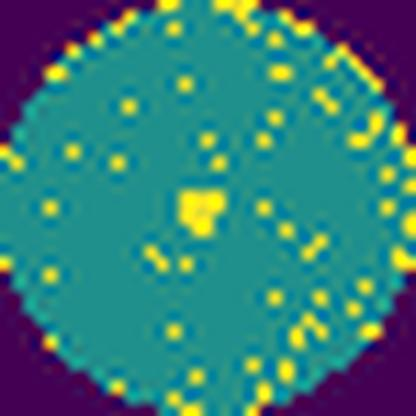Center: (169, 184, 230, 240)
